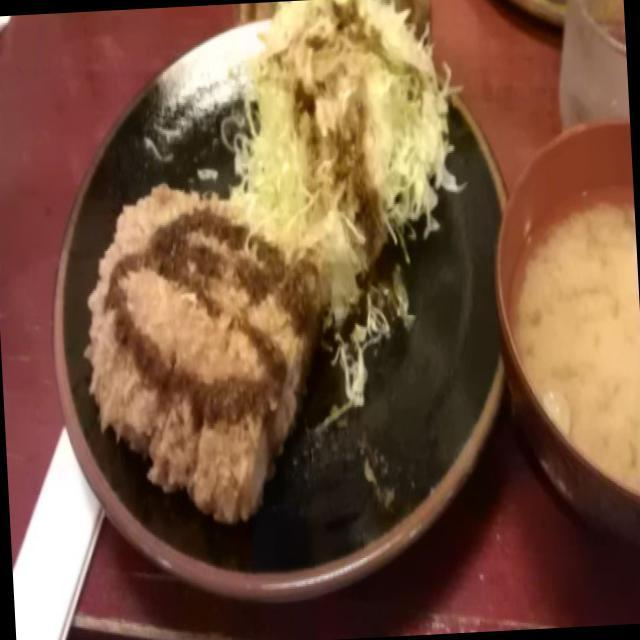Green Salad: (249, 0, 459, 218)
